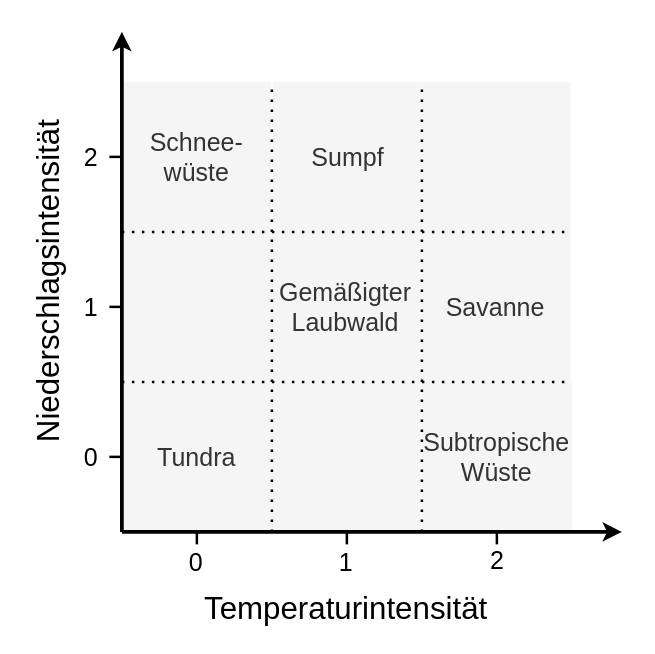
This 655x654 diagram has some shape labels left out. Each missing label, with the centre of its shape:
"Borealer Nadelwald" belongs at (x=196, y=306).
"Steppe" belongs at (x=345, y=456).
"Tropischer Regenwald" belongs at (x=495, y=156).
